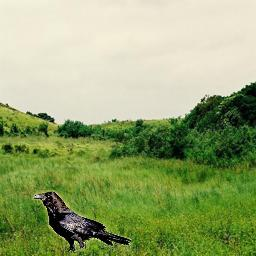Crow: (31, 190, 133, 252)
